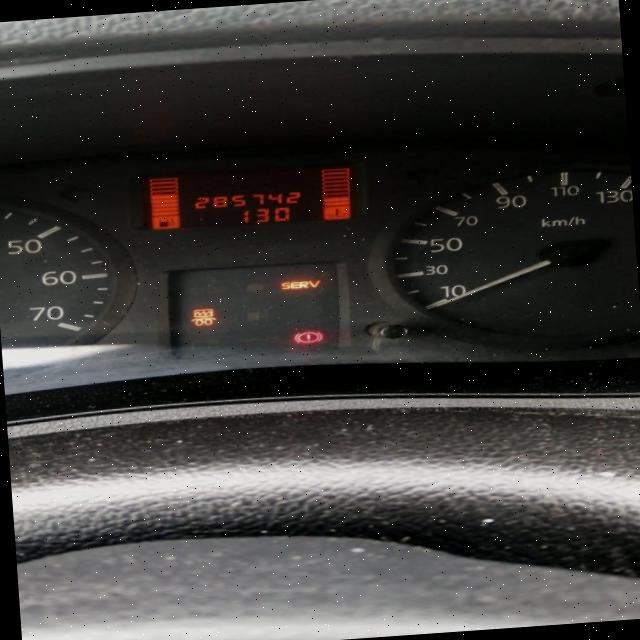odometer: (136, 159, 362, 233)
